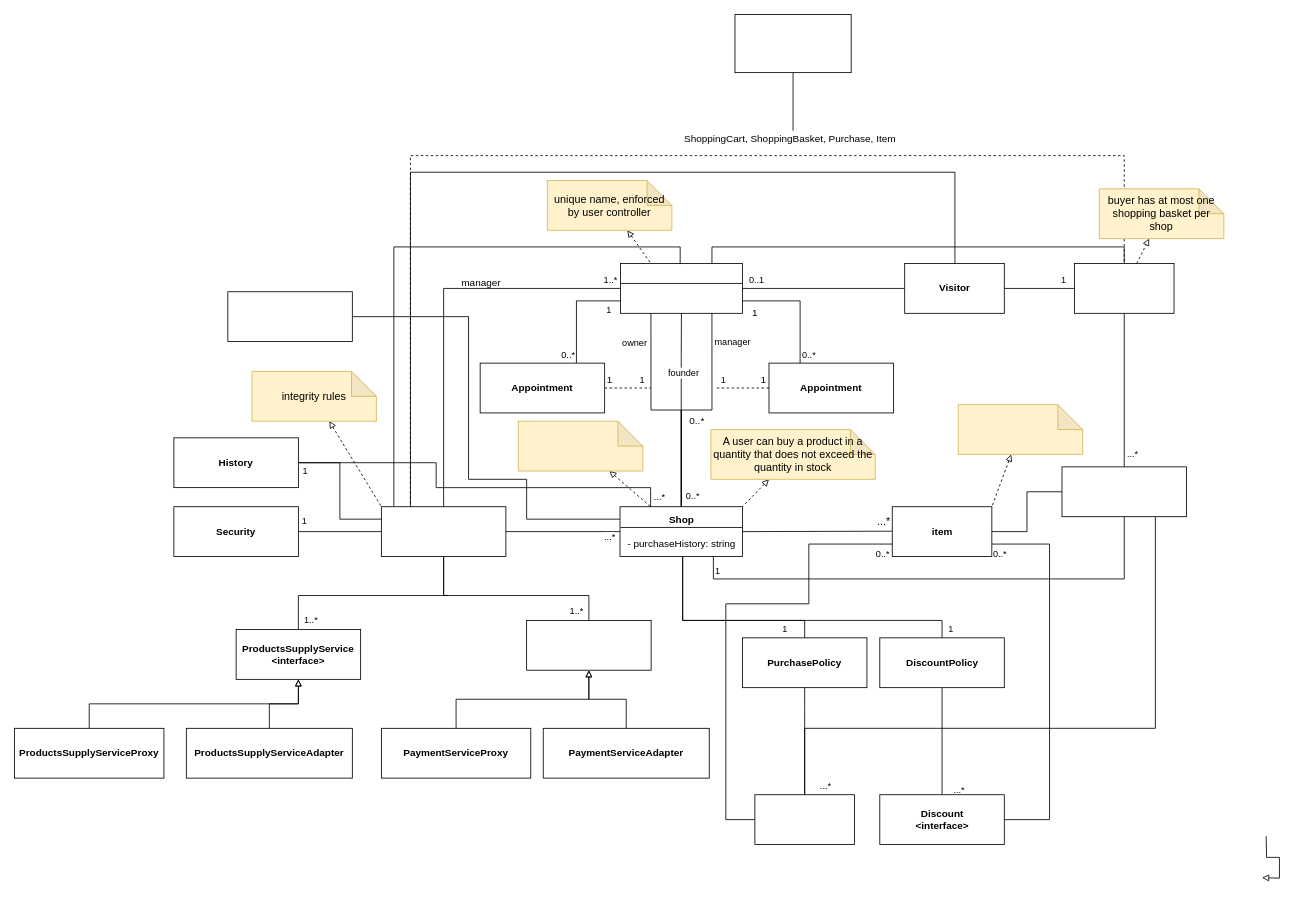
Some shapes in this 1301 by 900 pixel diagram are drawn without their labels. The centre of each missing label's shape, as x and y in pixels:
"<<Interface>> IHistory + createText(): string" belongs at [792,43].
"Market" belongs at [443,531].
"Member -history: string" belongs at [681,288].
"Notification" belongs at [289,316].
"Payment Service <interface>" belongs at [588,645].
"Product inventory is not negative" belongs at [1020,429].
"Purchase <interface>" belongs at [804,819].
"shop has at least one shop owner" belongs at [580,445].
"ShoppingBasket" belongs at [1123,491].
"ShoppingCart" belongs at [1124,288].
